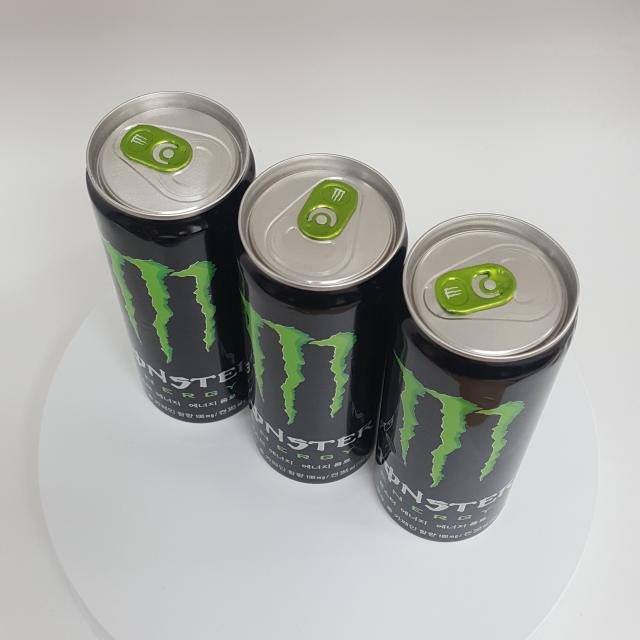--------355ML: (372, 212, 580, 543), (86, 90, 262, 423), (234, 153, 409, 484)
